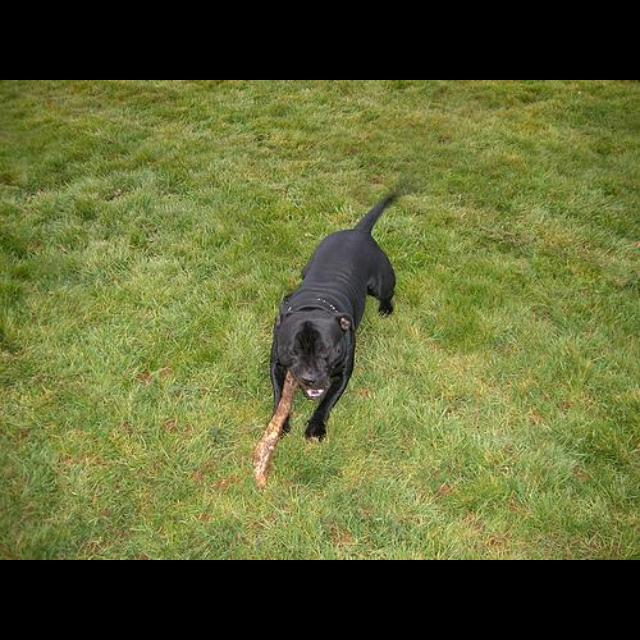staffford: (269, 188, 402, 445)
